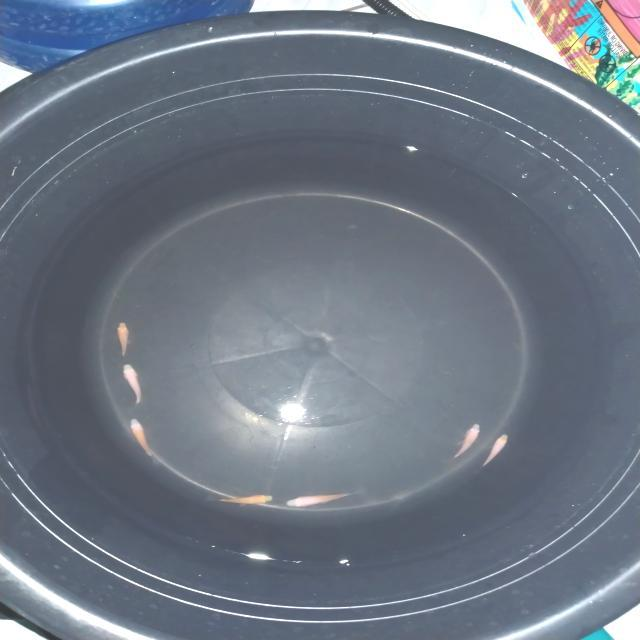nila: (283, 490, 362, 510), (445, 421, 482, 463), (128, 416, 160, 464), (479, 431, 513, 473), (120, 362, 144, 408), (206, 494, 276, 507), (114, 320, 132, 358)
